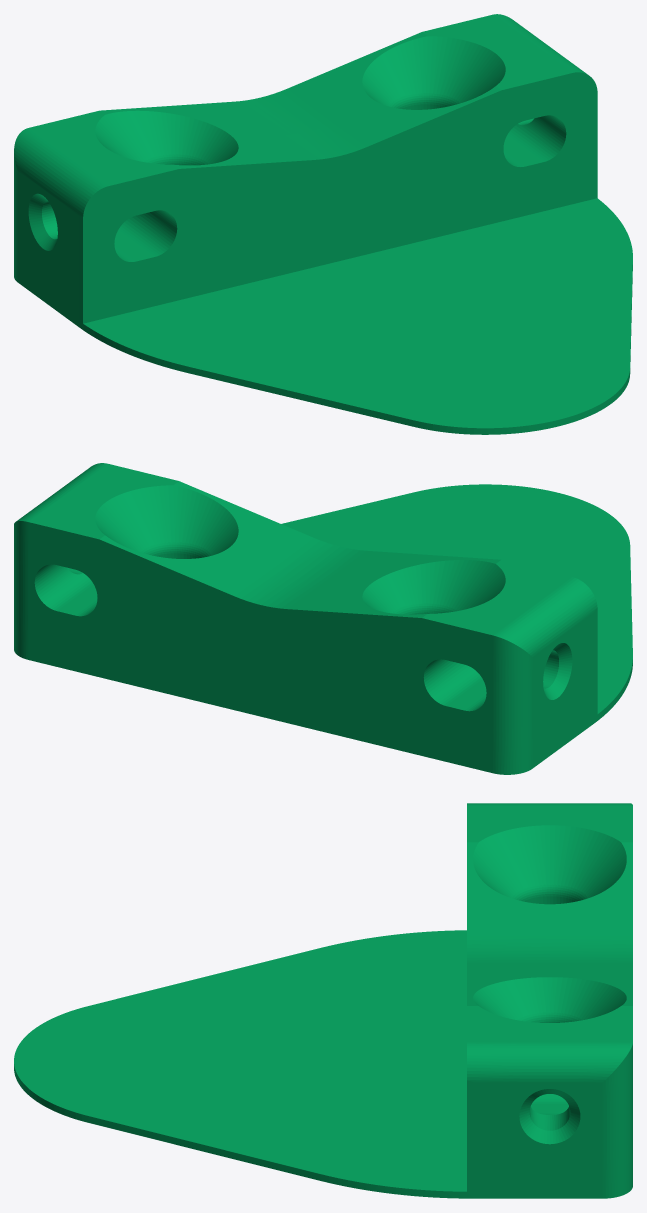
The model's file is Ender_Z-Axis_Motor_Mount-56.glb.
The picture shows the model from 3 angles, top to bottom: view 1: azimuth 30°, elevation 25°; view 2: azimuth 150°, elevation 25°; view 3: azimuth 270°, elevation 25°; orthographic projection. The views are drawn at different scales.
Size of the model in its own units: 41 by 10.5 by 41.
